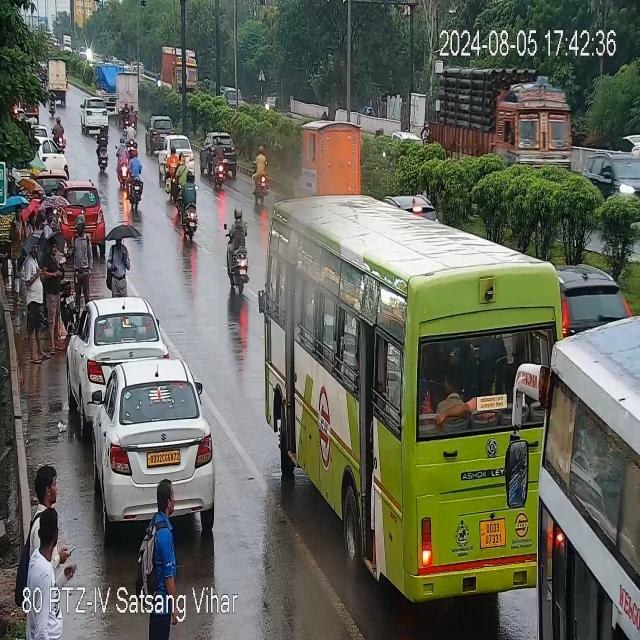2-wheelers: (222, 208, 250, 292), (176, 173, 200, 240), (124, 151, 145, 207), (210, 142, 231, 189), (253, 145, 267, 200), (115, 137, 129, 188), (176, 151, 189, 201), (96, 126, 108, 171), (52, 117, 66, 146), (125, 121, 139, 150), (121, 102, 129, 126), (130, 104, 137, 130), (49, 90, 56, 116)
bus: (262, 191, 568, 593), (507, 279, 639, 640)
car: (92, 358, 215, 522), (73, 295, 160, 400), (586, 147, 636, 207), (63, 181, 105, 245), (157, 132, 195, 177), (201, 131, 236, 174), (35, 138, 69, 180), (79, 97, 111, 132), (167, 147, 176, 201)
pedestrian: (140, 477, 182, 589), (24, 505, 70, 584), (58, 222, 95, 304), (25, 242, 46, 363), (44, 239, 64, 357), (28, 464, 61, 534), (103, 230, 131, 298), (12, 205, 23, 253), (44, 211, 56, 240)
truck: (418, 71, 569, 169), (298, 120, 362, 196), (162, 44, 197, 91), (94, 63, 120, 111), (116, 72, 140, 122), (48, 56, 68, 105)
